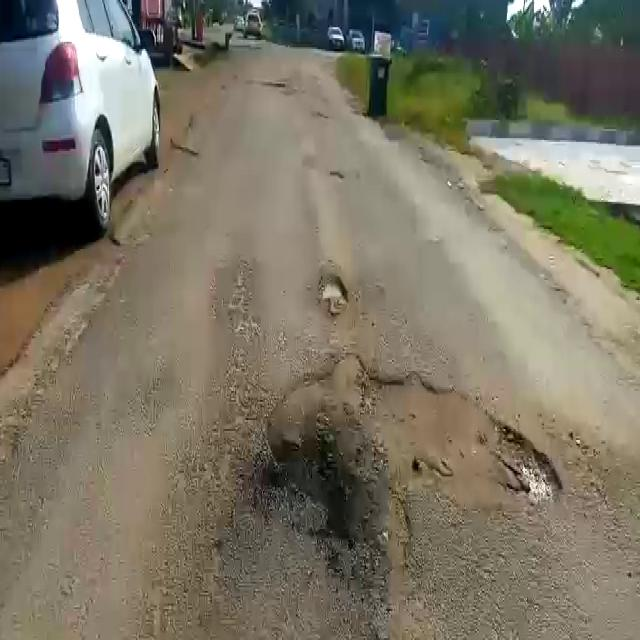Pothole: (262, 354, 566, 516), (317, 275, 349, 319)
